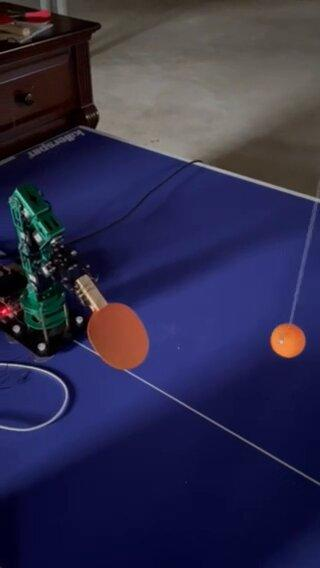oball: (269, 324, 307, 359)
